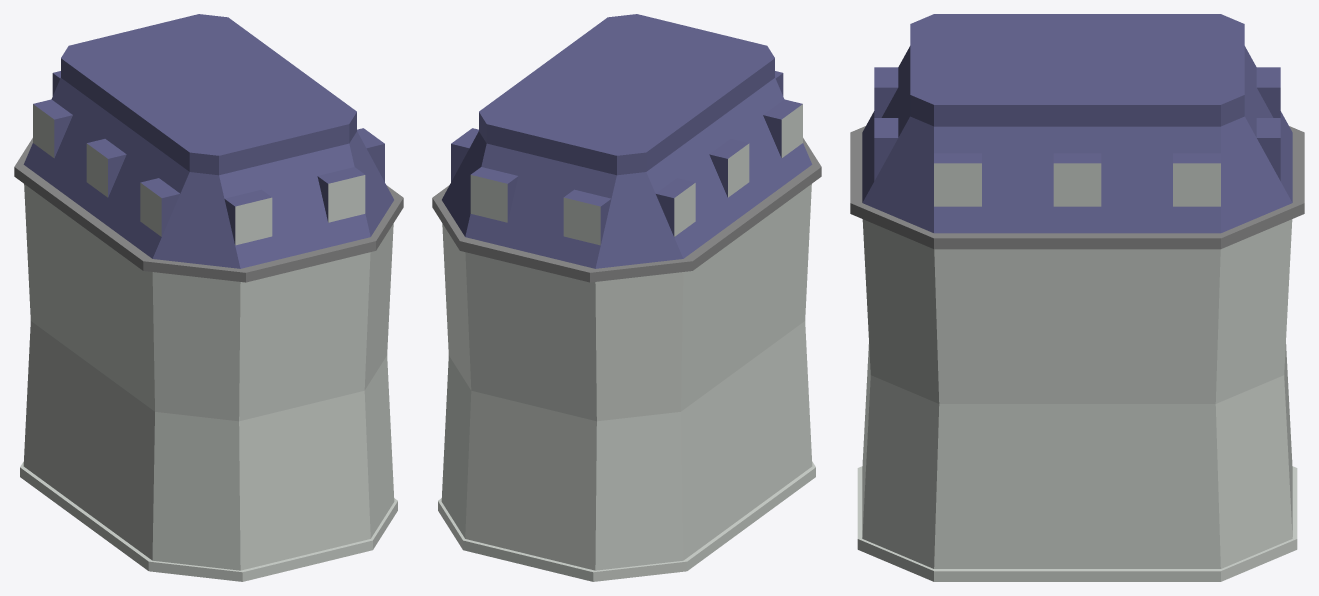
File: p-bld-lrg-01-.fbx
3 views of the same model, side by side, from view 1: azimuth 30°, elevation 25°; view 2: azimuth 150°, elevation 25°; view 3: azimuth 270°, elevation 25° (orthographic). The views are drawn at different scales.
Visible parts, largest first — view 1: Cube-col; view 2: Cube-col; view 3: Cube-col.
Part boxes in pixels (x1=…): Cube-col: x1=14, y1=14, x2=403, y2=581; Cube-col: x1=432, y1=14, x2=821, y2=581; Cube-col: x1=850, y1=14, x2=1304, y2=581.
Size of the model in its own units: 1400 by 2100 by 1900.
